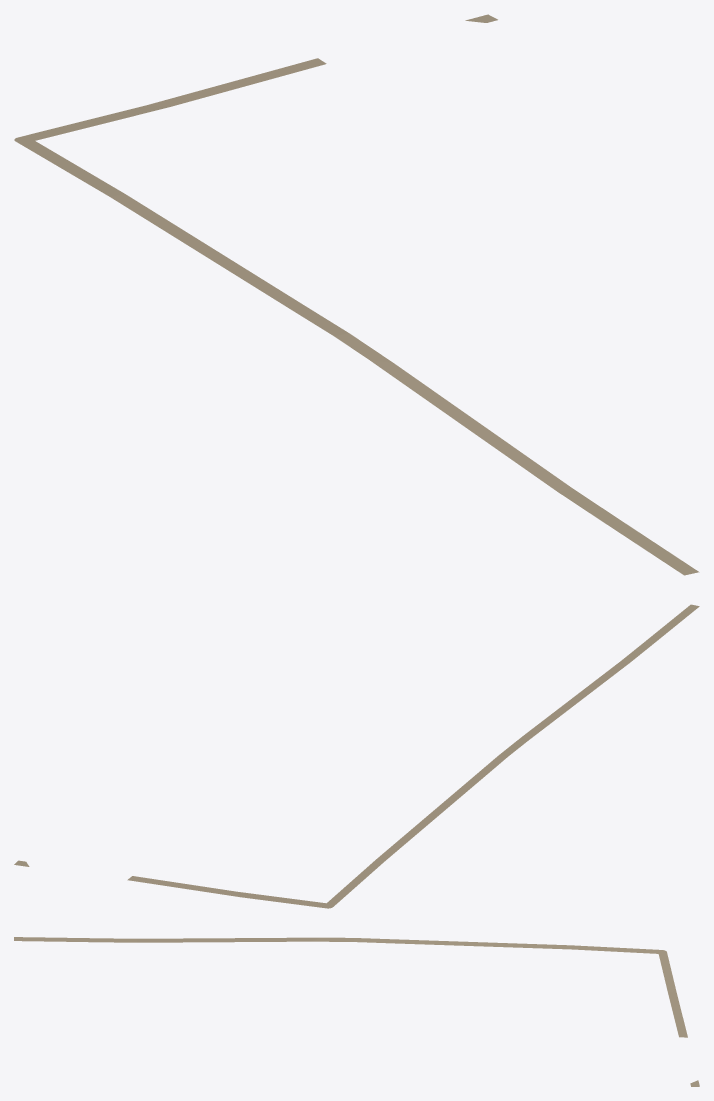
File: farm_4_16_track.glb
3 views of the same model, one above another, from view 1: azimuth 30°, elevation 25°; view 2: azimuth 150°, elevation 25°; view 3: azimuth 270°, elevation 25° (orthographic). The views are drawn at different scales.
Parts seen in each view (by area): view 1: geometry_0; view 2: geometry_0; view 3: geometry_0.
Part boxes in pixels (x1,y1,x2,y2): geometry_0: (14,14,699,575); geometry_0: (14,604,699,908); geometry_0: (14,937,699,1086).
Bounding box in the file's own units: 109 × 12.31 × 253.
